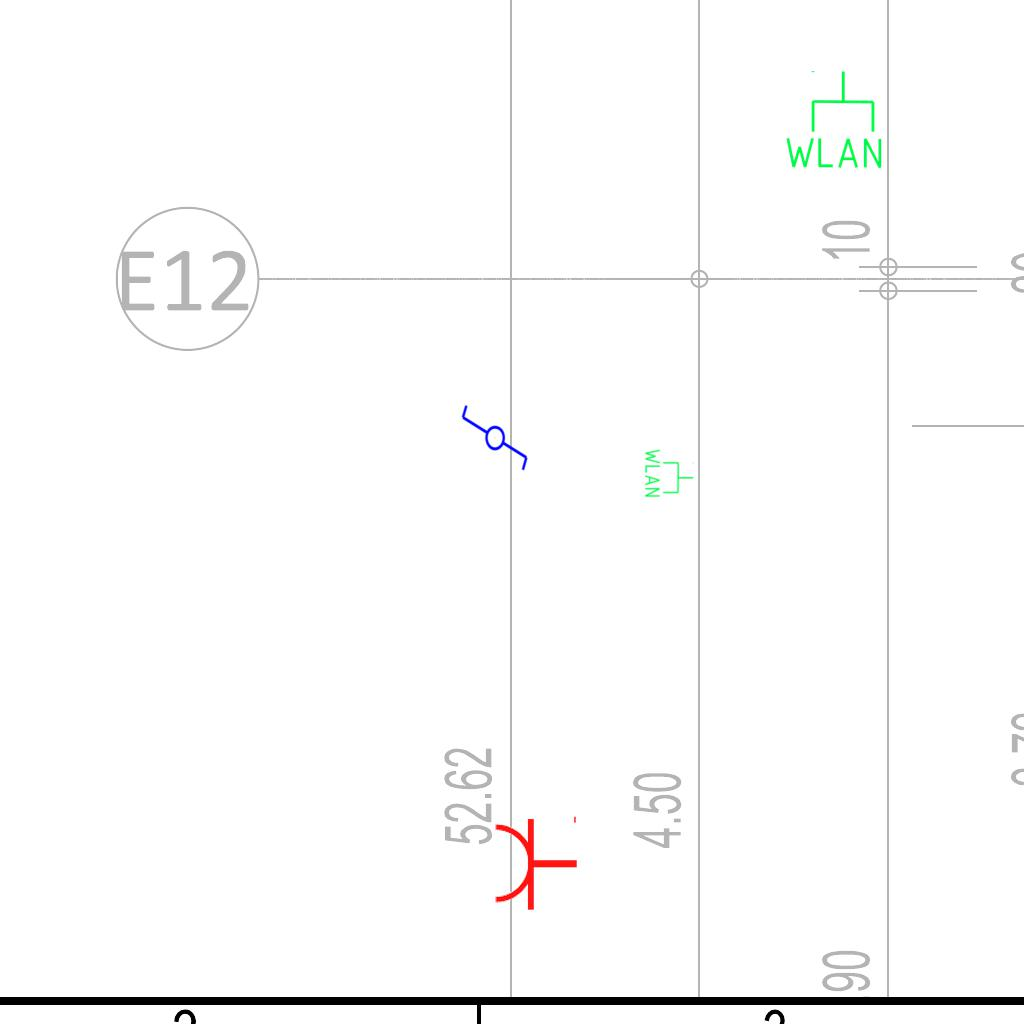Schukosteckdose_einfach: (492, 812, 579, 912)
WLAN: (781, 68, 886, 172), (643, 447, 695, 499)
Wechselschalter: (458, 403, 530, 481)
